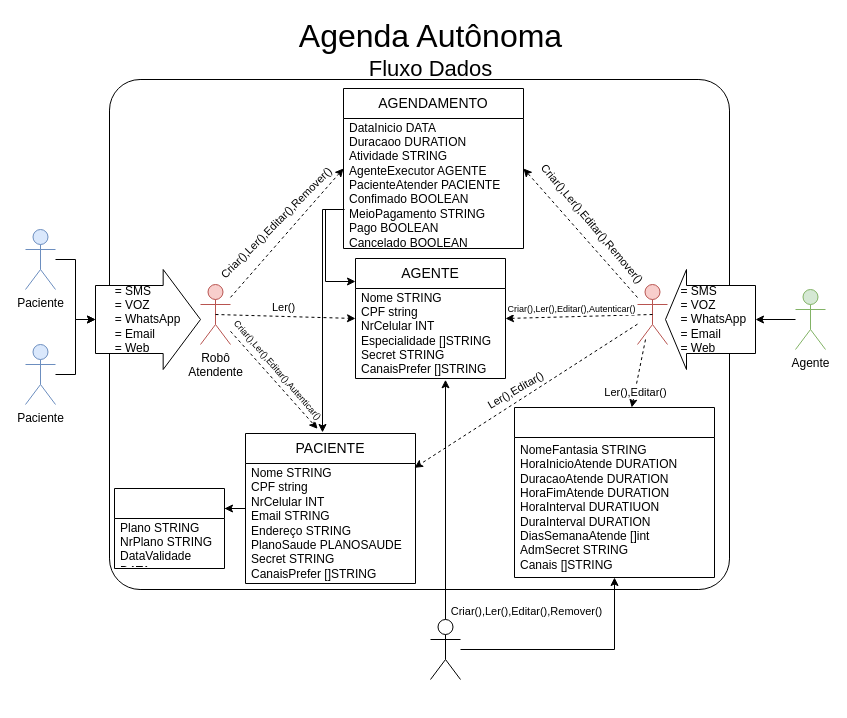
Image size: 847x718. Some labels were removed from this diagram. The box of each missing label's shape, as (x1, y1, x2, y2) in pixels:
CONFIGATENDIMENTO: (514, 406, 714, 578)
Instalador/Suporte: (430, 618, 460, 680)
PLANOSAUDE: (114, 488, 224, 568)
Robô Assistente: (636, 284, 668, 344)
